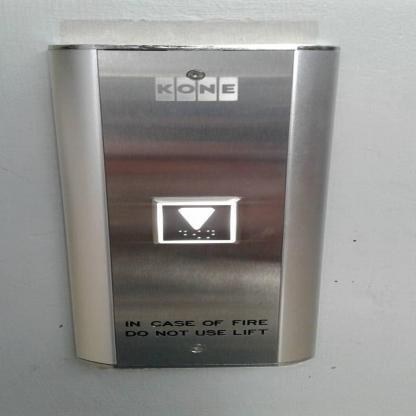down: (149, 196, 242, 246)
